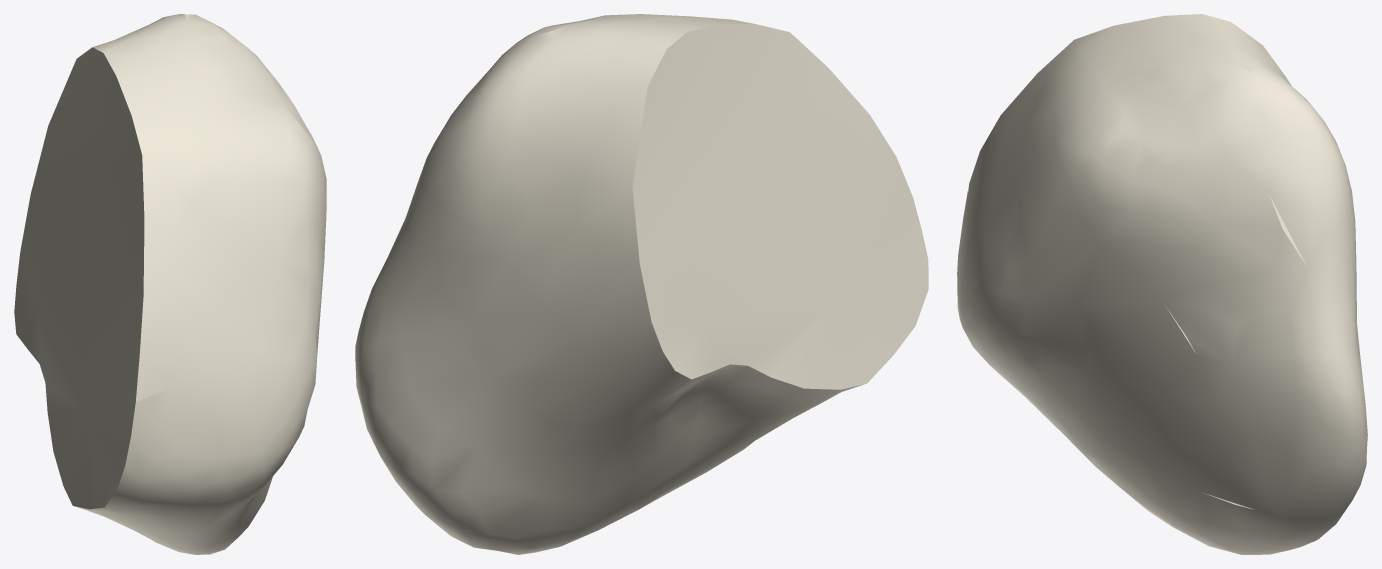
The model's file is fma23298_mm1555m.glb.
3 renders of one model, left to right at view 1: azimuth 30°, elevation 25°; view 2: azimuth 150°, elevation 25°; view 3: azimuth 270°, elevation 25°, orthographic. The views are drawn at different scales.
Parts seen in each view (by area): view 1: FMA23298_MM1555M; view 2: FMA23298_MM1555M; view 3: FMA23298_MM1555M.
Part boxes in pixels (bbox=[...]): FMA23298_MM1555M: bbox=[14, 14, 326, 554]; FMA23298_MM1555M: bbox=[355, 14, 928, 554]; FMA23298_MM1555M: bbox=[957, 14, 1367, 554].
Bounding box in the file's own units: 0.0187 × 0.0258 × 0.02.
